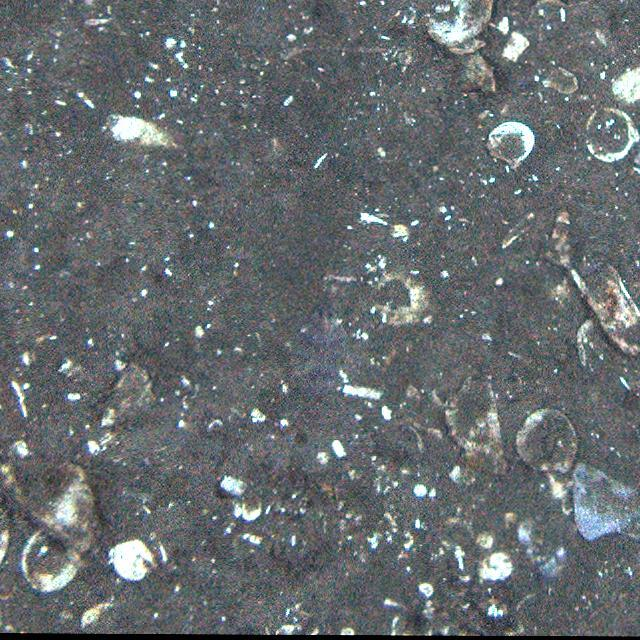flatfish: (294, 305, 349, 409)
